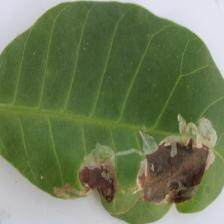leaf miner: (0, 0, 224, 224), (136, 113, 218, 205), (78, 141, 119, 203)
